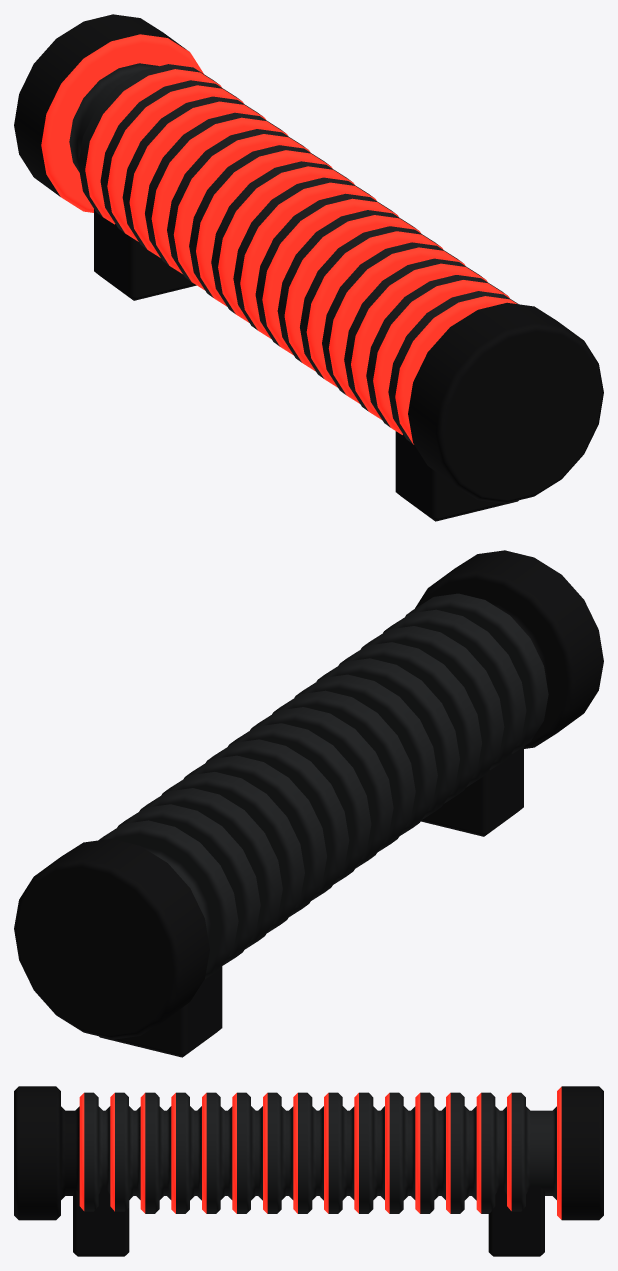
The model's file is module_0_energy_coil.glb.
3 renders of one model, top to bottom at view 1: azimuth 30°, elevation 25°; view 2: azimuth 150°, elevation 25°; view 3: azimuth 270°, elevation 25°, orthographic. The views are drawn at different scales.
Visible parts, largest first — view 1: module_0_energy_coil; view 2: module_0_energy_coil; view 3: module_0_energy_coil.
Boxes of the visible parts, bbox=[...] form: module_0_energy_coil: bbox=[14, 14, 603, 521]; module_0_energy_coil: bbox=[14, 550, 603, 1057]; module_0_energy_coil: bbox=[14, 1086, 603, 1256].
Size of the model in its own units: 0.0286 by 0.0351 by 0.1256.
